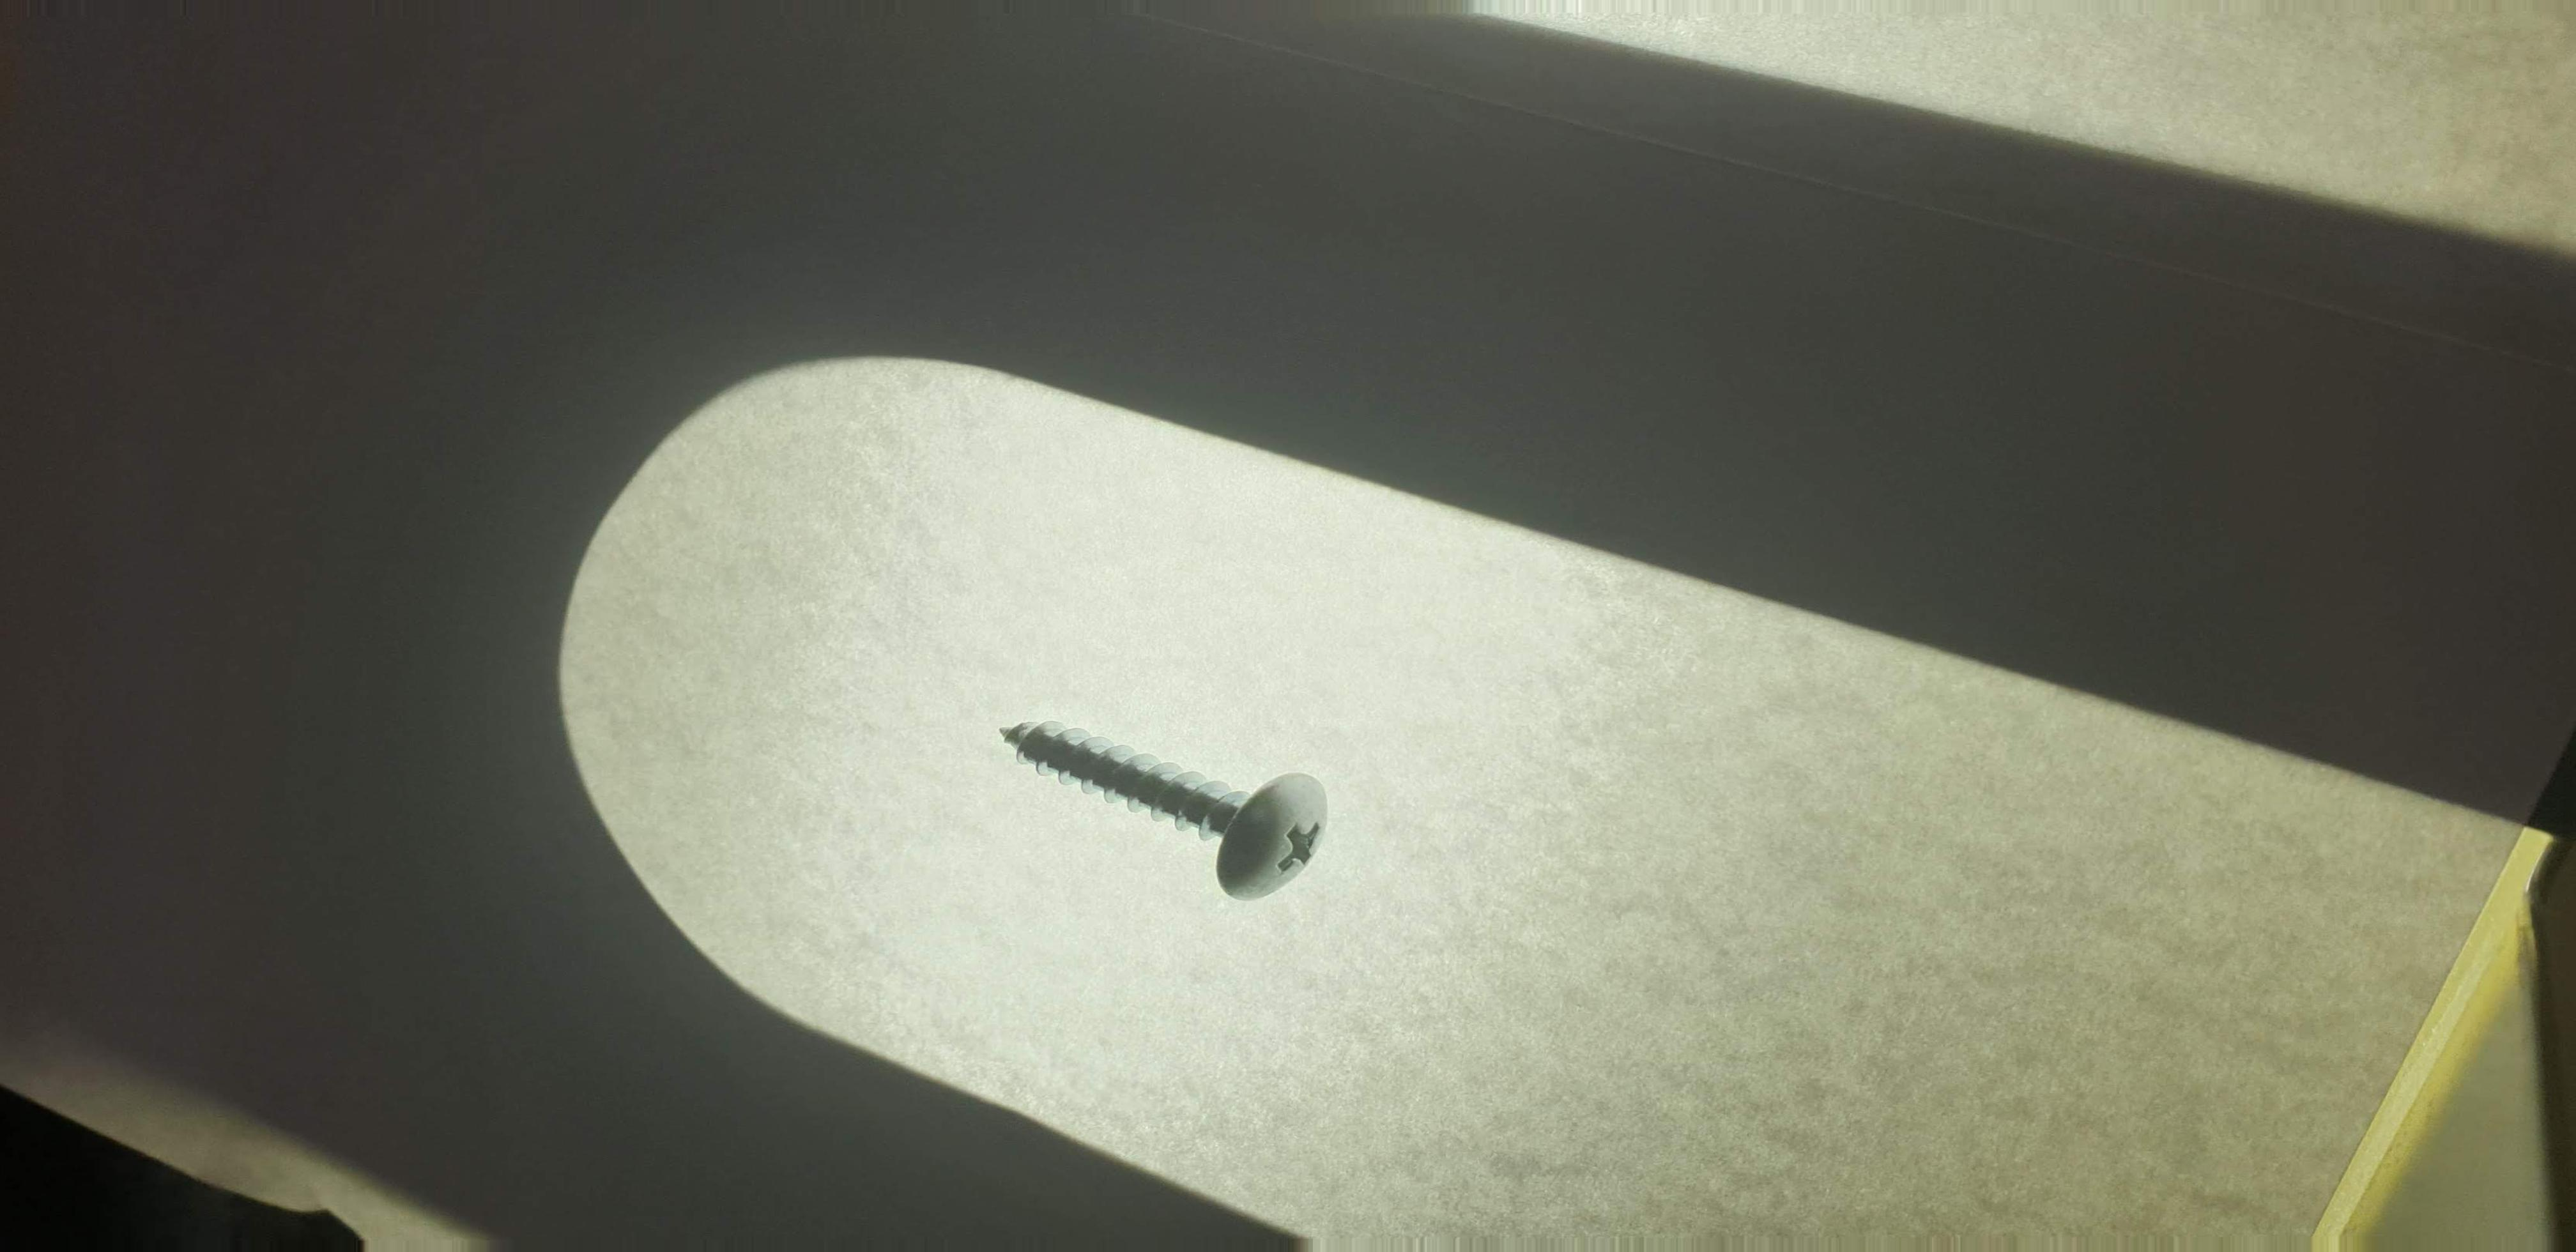S002: (938, 661, 1383, 951)
